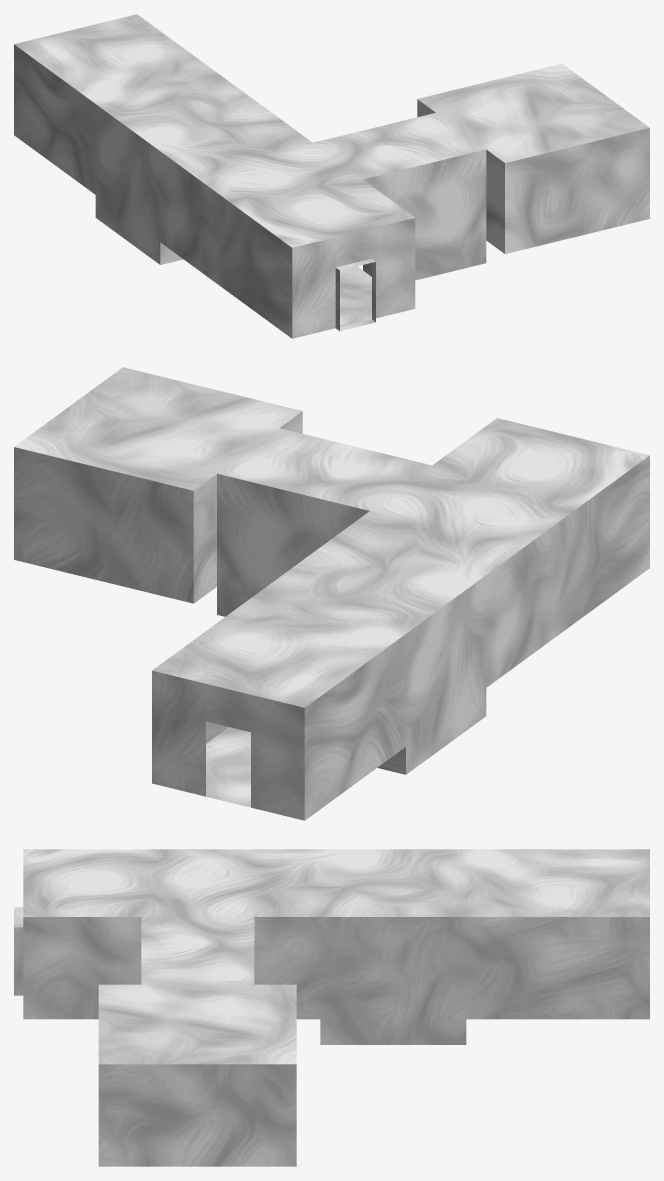
The model's file is Stage5.obj.
3 renders of one model, top to bottom at view 1: azimuth 30°, elevation 25°; view 2: azimuth 150°, elevation 25°; view 3: azimuth 270°, elevation 25°, orthographic. The views are drawn at different scales.
Visible parts, largest first — view 1: Stage5; view 2: Stage5; view 3: Stage5.
Boxes of the visible parts, bbox=[...] form: Stage5: bbox=[14, 14, 649, 338]; Stage5: bbox=[14, 367, 649, 820]; Stage5: bbox=[14, 849, 649, 1166].
Bounding box in the file's own units: 27 × 7.5 × 33.75.
Materials: 1 (1 with a texture image).
